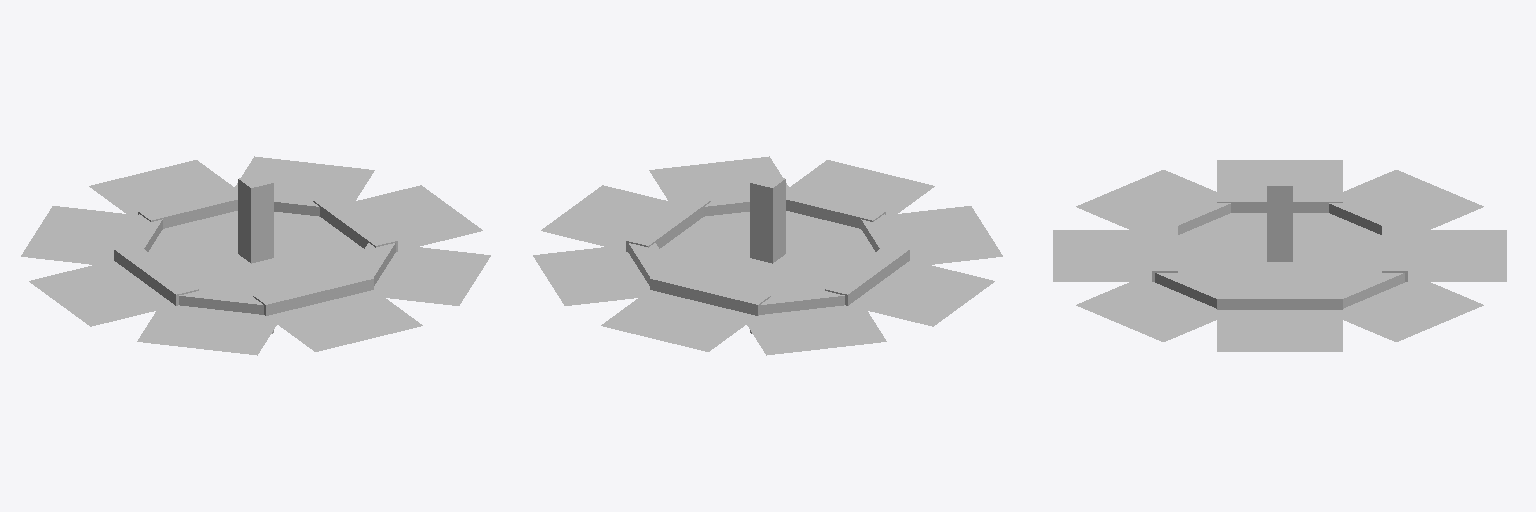
The model's file is pharaoh_wheel.obj.
3 renders of one model, left to right at view 1: azimuth 30°, elevation 25°; view 2: azimuth 150°, elevation 25°; view 3: azimuth 270°, elevation 25°, orthographic.
Parts seen in each view (by area): view 1: wheel_glow, wheel_glow.000, wheel_glow.002, wheel_glow.005, wheel_glow.006, wheel_glow.003, wheel_glow.004, wheel_glow.001, wheel_glow.007, wheel, wheel.001, wheel.002 (+6 smaller); view 2: wheel_glow, wheel_glow.001, wheel_glow.002, wheel_glow.006, wheel_glow.005, wheel_glow.003, wheel_glow.007, wheel_glow.000, wheel_glow.004, wheel, wheel.000, wheel.002 (+6 smaller); view 3: wheel_glow, wheel_glow.003, wheel_glow.001, wheel_glow.000, wheel_glow.005, wheel_glow.006, wheel_glow.004, wheel_glow.007, wheel_glow.002, wheel.003, wheel, wheel.002 (+6 smaller).
Boxes of the visible parts, x1,y1,x2,y2 form: wheel_glow: [90, 182, 425, 329]; wheel_glow.000: [277, 291, 422, 351]; wheel_glow.002: [29, 264, 169, 326]; wheel_glow.005: [137, 302, 282, 355]; wheel_glow.006: [21, 206, 135, 266]; wheel_glow.003: [350, 185, 482, 250]; wheel_glow.004: [364, 245, 490, 305]; wheel_glow.001: [89, 160, 233, 219]; wheel_glow.007: [235, 156, 374, 205]; wheel: [238, 173, 273, 333]; wheel.001: [253, 269, 373, 315]; wheel.002: [114, 244, 198, 305]; wheel_glow: [598, 182, 933, 329]; wheel_glow.001: [601, 292, 746, 351]; wheel_glow.002: [854, 264, 994, 326]; wheel_glow.006: [741, 302, 886, 355]; wheel_glow.005: [889, 206, 1002, 266]; wheel_glow.003: [541, 185, 674, 251]; wheel_glow.007: [533, 245, 659, 305]; wheel_glow.000: [790, 160, 934, 219]; wheel_glow.004: [649, 156, 788, 205]; wheel: [750, 173, 785, 333]; wheel.000: [650, 269, 770, 315]; wheel.002: [825, 244, 909, 305]; wheel_glow: [1152, 202, 1407, 309]; wheel_glow.003: [1217, 310, 1342, 351]; wheel_glow.001: [1408, 230, 1506, 281]; wheel_glow.000: [1053, 230, 1151, 281]; wheel_glow.005: [1076, 170, 1216, 235]; wheel_glow.006: [1343, 170, 1483, 235]; wheel_glow.004: [1076, 282, 1223, 341]; wheel_glow.007: [1332, 282, 1483, 341]; wheel_glow.002: [1217, 160, 1342, 190]; wheel.003: [1217, 288, 1342, 309]; wheel: [1267, 175, 1292, 261]; wheel.002: [1217, 191, 1342, 212].
Size of the model in its own units: 1.73 by 0.6313 by 1.73.